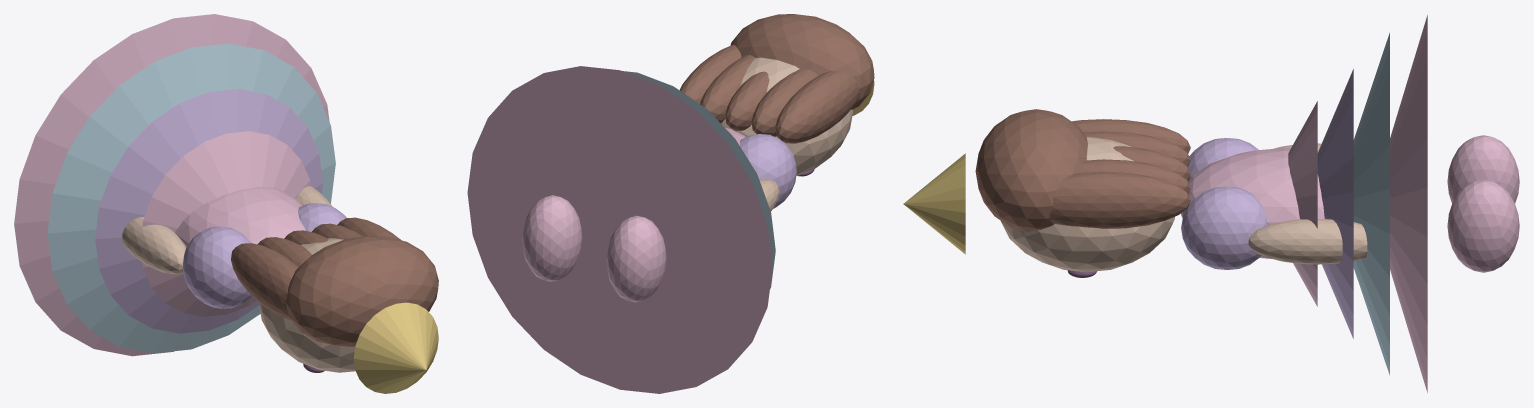
Rendered from 01_Princesa_Sophie.glb.
The picture shows the model from 3 angles, left to right: view 1: azimuth 30°, elevation 25°; view 2: azimuth 150°, elevation 25°; view 3: azimuth 270°, elevation 25°; orthographic projection. The views are drawn at different scales.
Parts seen in each view (by area): view 1: dress_layer_2, dress_layer_3, dress_layer_1, hair_cap, dress_layer, crown, bodice, puff_sleeve, hair_lock, head, arm, puff_sleeve_1 (+5 smaller); view 2: dress_layer_3, hair_cap, shoe, shoe_1, hair_lock, head, puff_sleeve, dress_layer_2, hair_lock_1, hair_lock_3, hair_lock_2, hair_lock_4 (+1 smaller); view 3: dress_layer_3, hair_cap, dress_layer_2, hair_lock_4, head, dress_layer_1, puff_sleeve_1, shoe_1, bodice, arm_1, crown, shoe (+6 smaller).
Boxes of the visible parts, bbox=[...] form: dress_layer_2: bbox=[47, 43, 335, 353]; dress_layer_3: bbox=[14, 14, 329, 356]; dress_layer_1: bbox=[95, 89, 322, 333]; hair_cap: bbox=[285, 236, 438, 346]; dress_layer: bbox=[142, 131, 310, 316]; crown: bbox=[353, 302, 438, 393]; bodice: bbox=[175, 187, 305, 247]; puff_sleeve: bbox=[183, 226, 251, 308]; hair_lock: bbox=[231, 243, 298, 320]; head: bbox=[258, 238, 355, 372]; arm: bbox=[122, 217, 186, 274]; puff_sleeve_1: bbox=[298, 203, 346, 231]; dress_layer_3: bbox=[467, 66, 772, 393]; hair_cap: bbox=[730, 14, 874, 109]; shoe: bbox=[606, 215, 666, 302]; shoe_1: bbox=[522, 195, 582, 281]; hair_lock: bbox=[775, 70, 859, 143]; head: bbox=[721, 57, 852, 175]; puff_sleeve: bbox=[739, 134, 796, 208]; dress_layer_2: bbox=[623, 71, 775, 288]; hair_lock_1: bbox=[751, 68, 817, 136]; hair_lock_3: bbox=[700, 55, 755, 123]; hair_lock_2: bbox=[725, 71, 769, 130]; hair_lock_4: bbox=[679, 44, 741, 103]; dress_layer_3: bbox=[1390, 15, 1427, 392]; hair_cap: bbox=[975, 109, 1087, 231]; dress_layer_2: bbox=[1353, 32, 1389, 375]; hair_lock_4: bbox=[1050, 172, 1190, 228]; head: bbox=[1000, 137, 1174, 272]; dress_layer_1: bbox=[1317, 69, 1353, 338]; puff_sleeve_1: bbox=[1181, 186, 1267, 269]; shoe_1: bbox=[1447, 179, 1519, 272]; bodice: bbox=[1181, 148, 1324, 258]; arm_1: bbox=[1248, 219, 1367, 264]; crown: bbox=[903, 153, 965, 254]; shoe: bbox=[1447, 135, 1519, 203].
Size of the model in its own units: 2.32 by 2.32 by 3.75.
